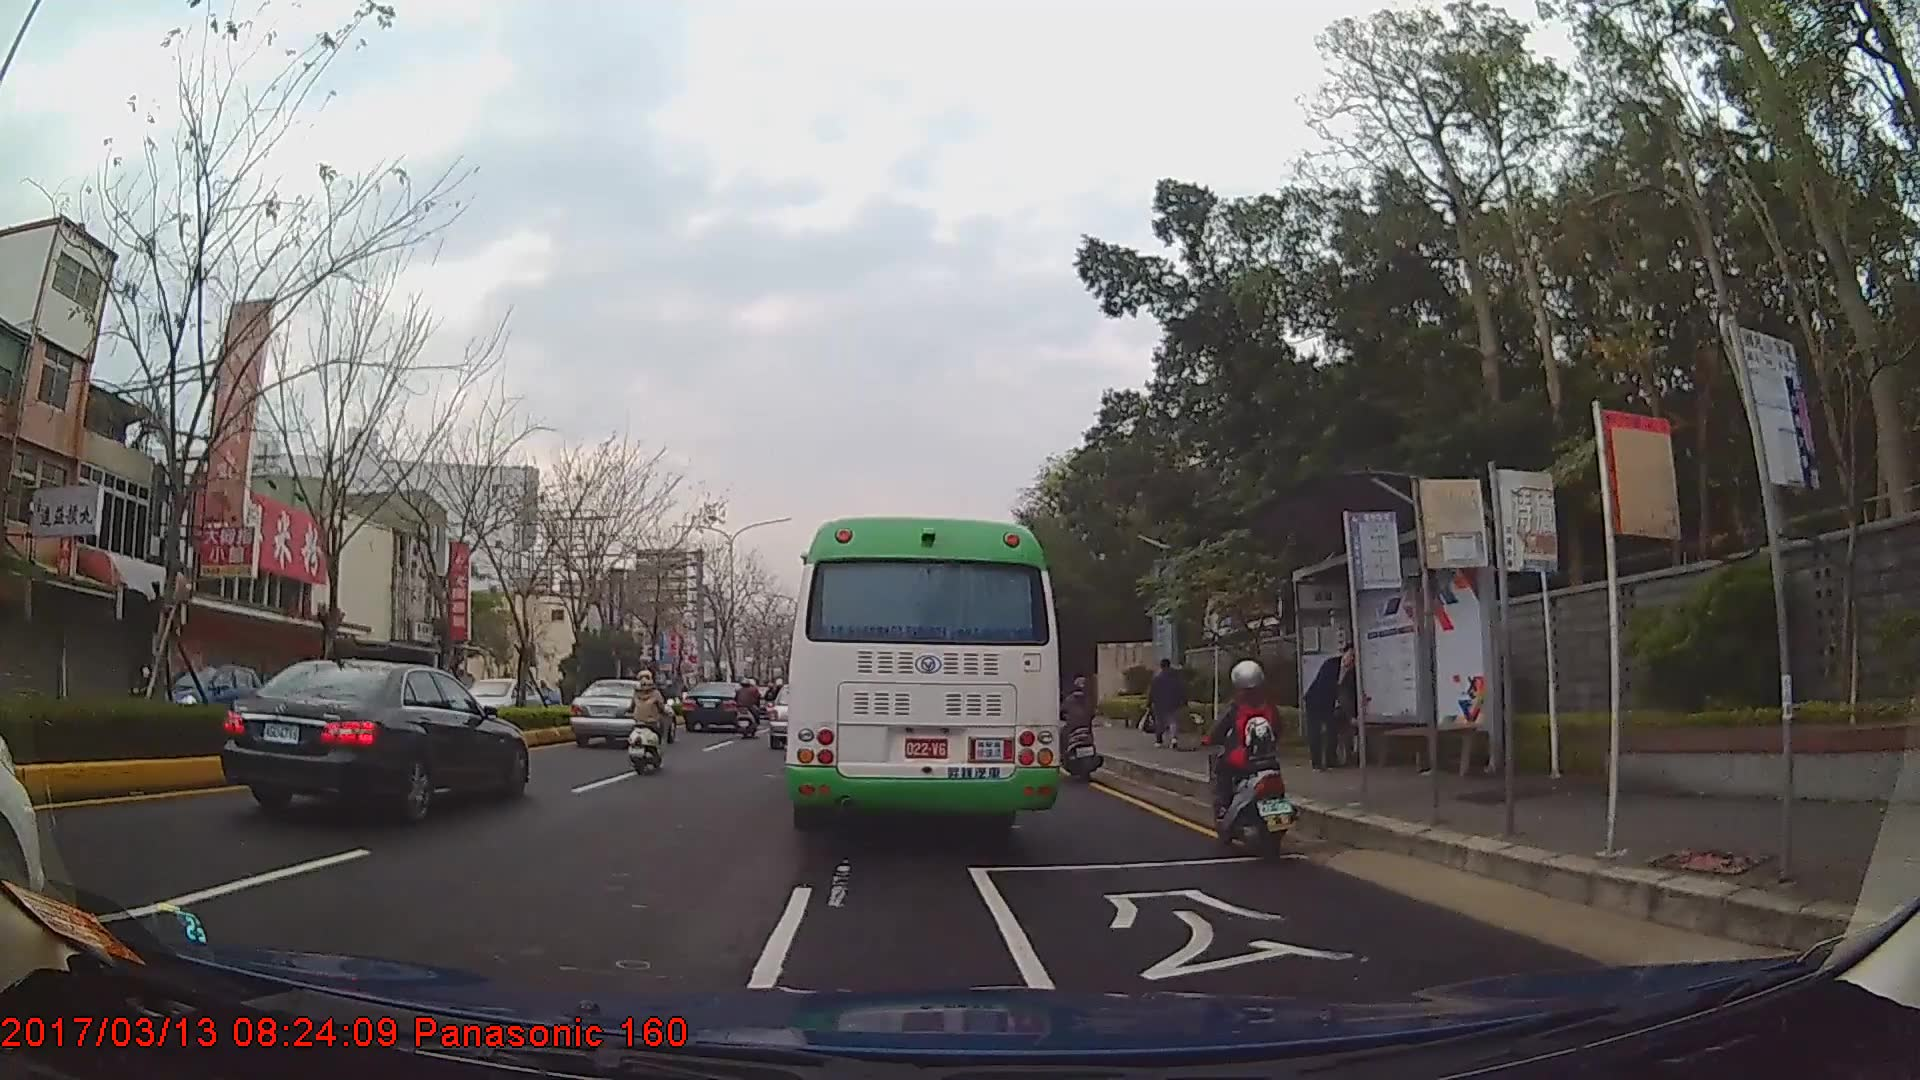pedestrian: (1307, 640, 1365, 775), (1141, 655, 1187, 750)
rider: (1199, 662, 1300, 859), (1056, 674, 1104, 784), (628, 669, 673, 773), (735, 678, 760, 738), (128, 667, 155, 699)
vehicle: (785, 515, 1060, 838), (211, 659, 526, 820), (145, 658, 260, 734), (570, 676, 677, 748), (445, 671, 544, 731), (682, 677, 749, 731)
